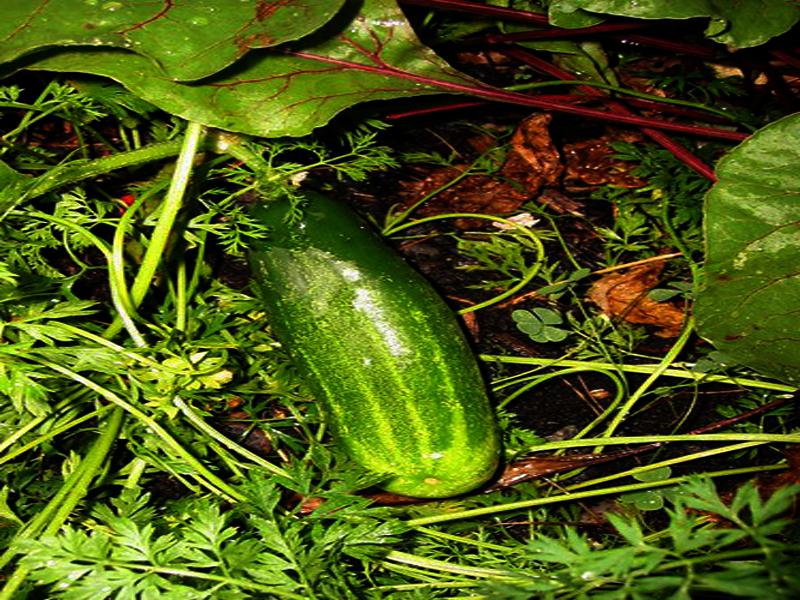Cucumber: (234, 188, 502, 493)
